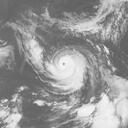cyclone: (40, 47, 92, 96)
